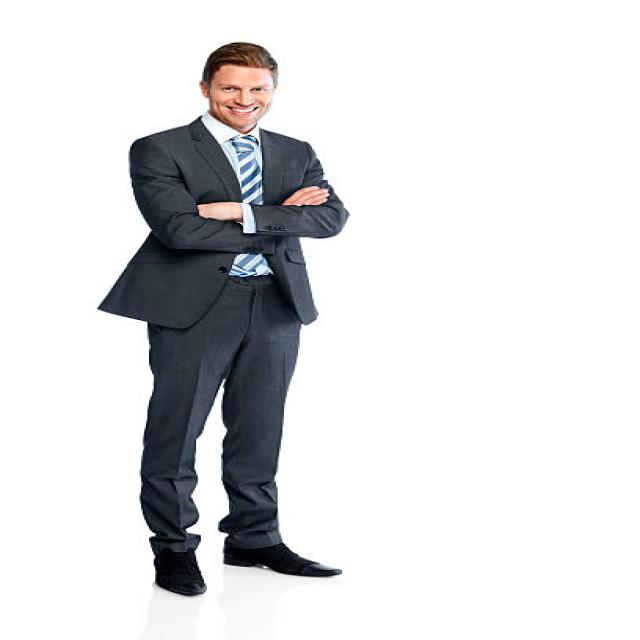Edited images: (79, 33, 375, 609)
